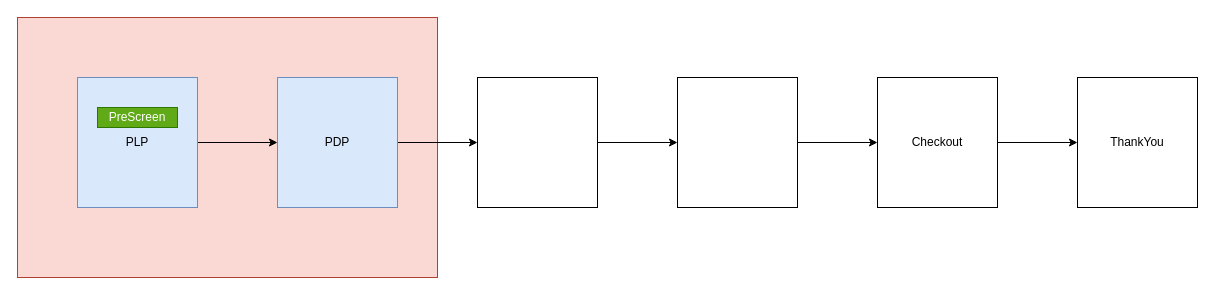
The diagram is 1215 pixels wide and 295 high, and some of its shapes have lost their labels. The shapes that lost their labels are listed below. From the top down, each one's centre as x and y in pixels, then its label:
the point at 537,142: PSC Hub
the point at 737,142: Cart
